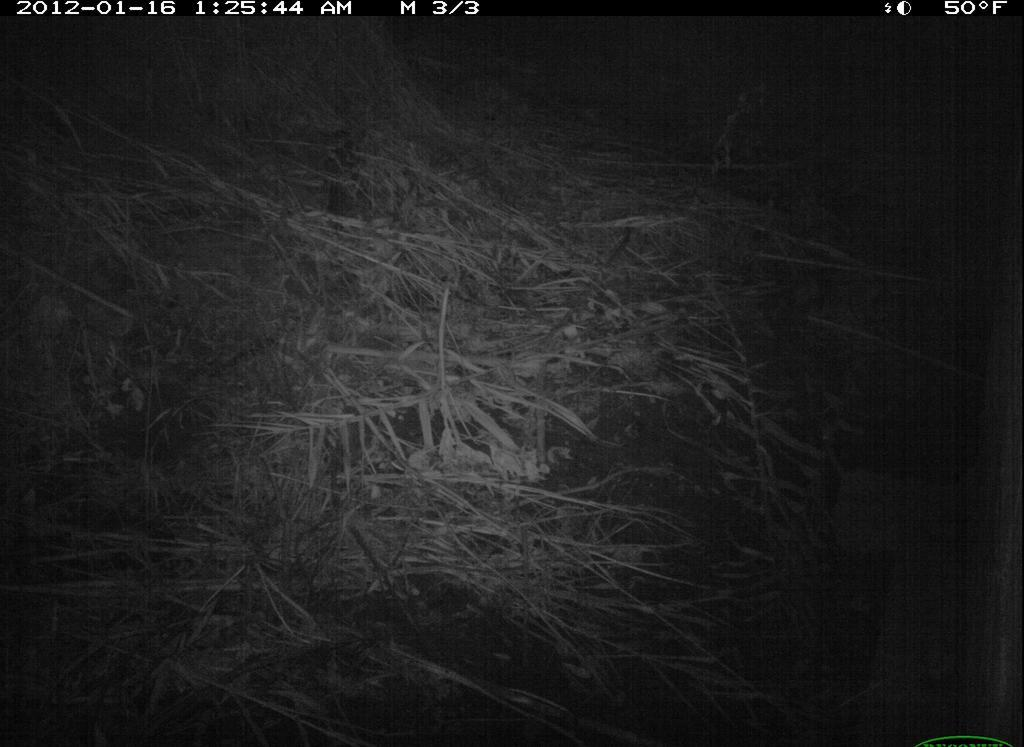opossum: (758, 260, 841, 345)
